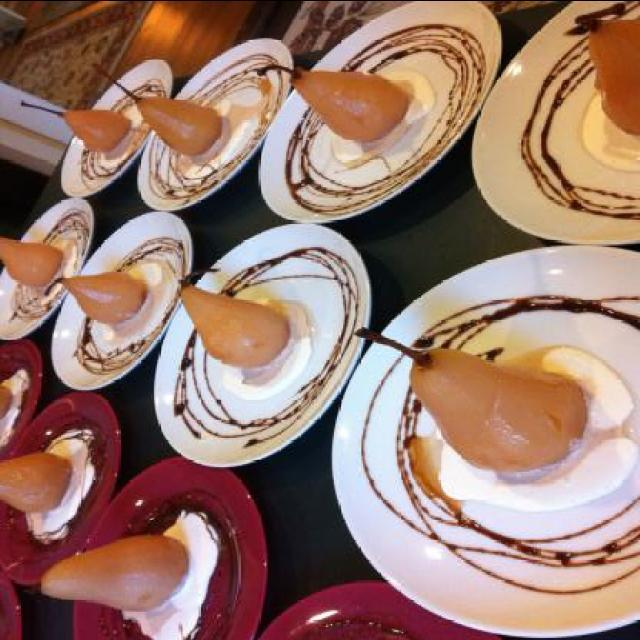Pear: (352, 328, 590, 472), (21, 534, 192, 610), (254, 63, 412, 143), (92, 64, 226, 156), (175, 268, 288, 366), (568, 0, 640, 134), (18, 104, 134, 156), (45, 268, 148, 326), (0, 450, 74, 516), (0, 231, 64, 289), (0, 386, 14, 418)
